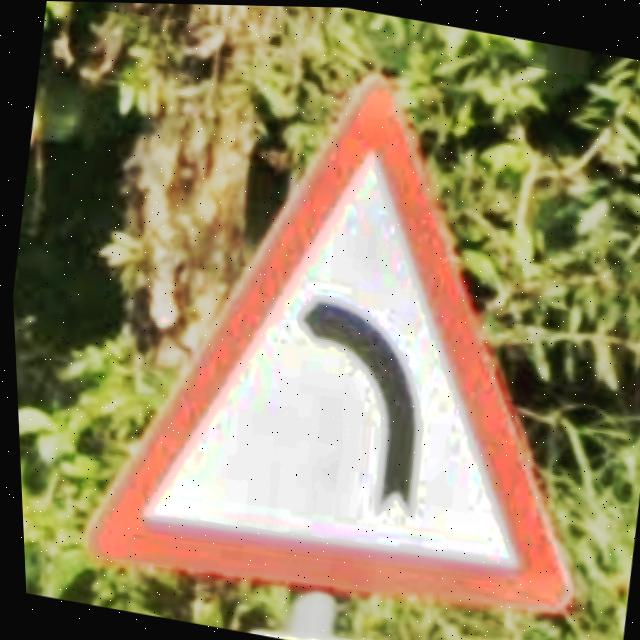leftbend: (79, 75, 571, 616)
